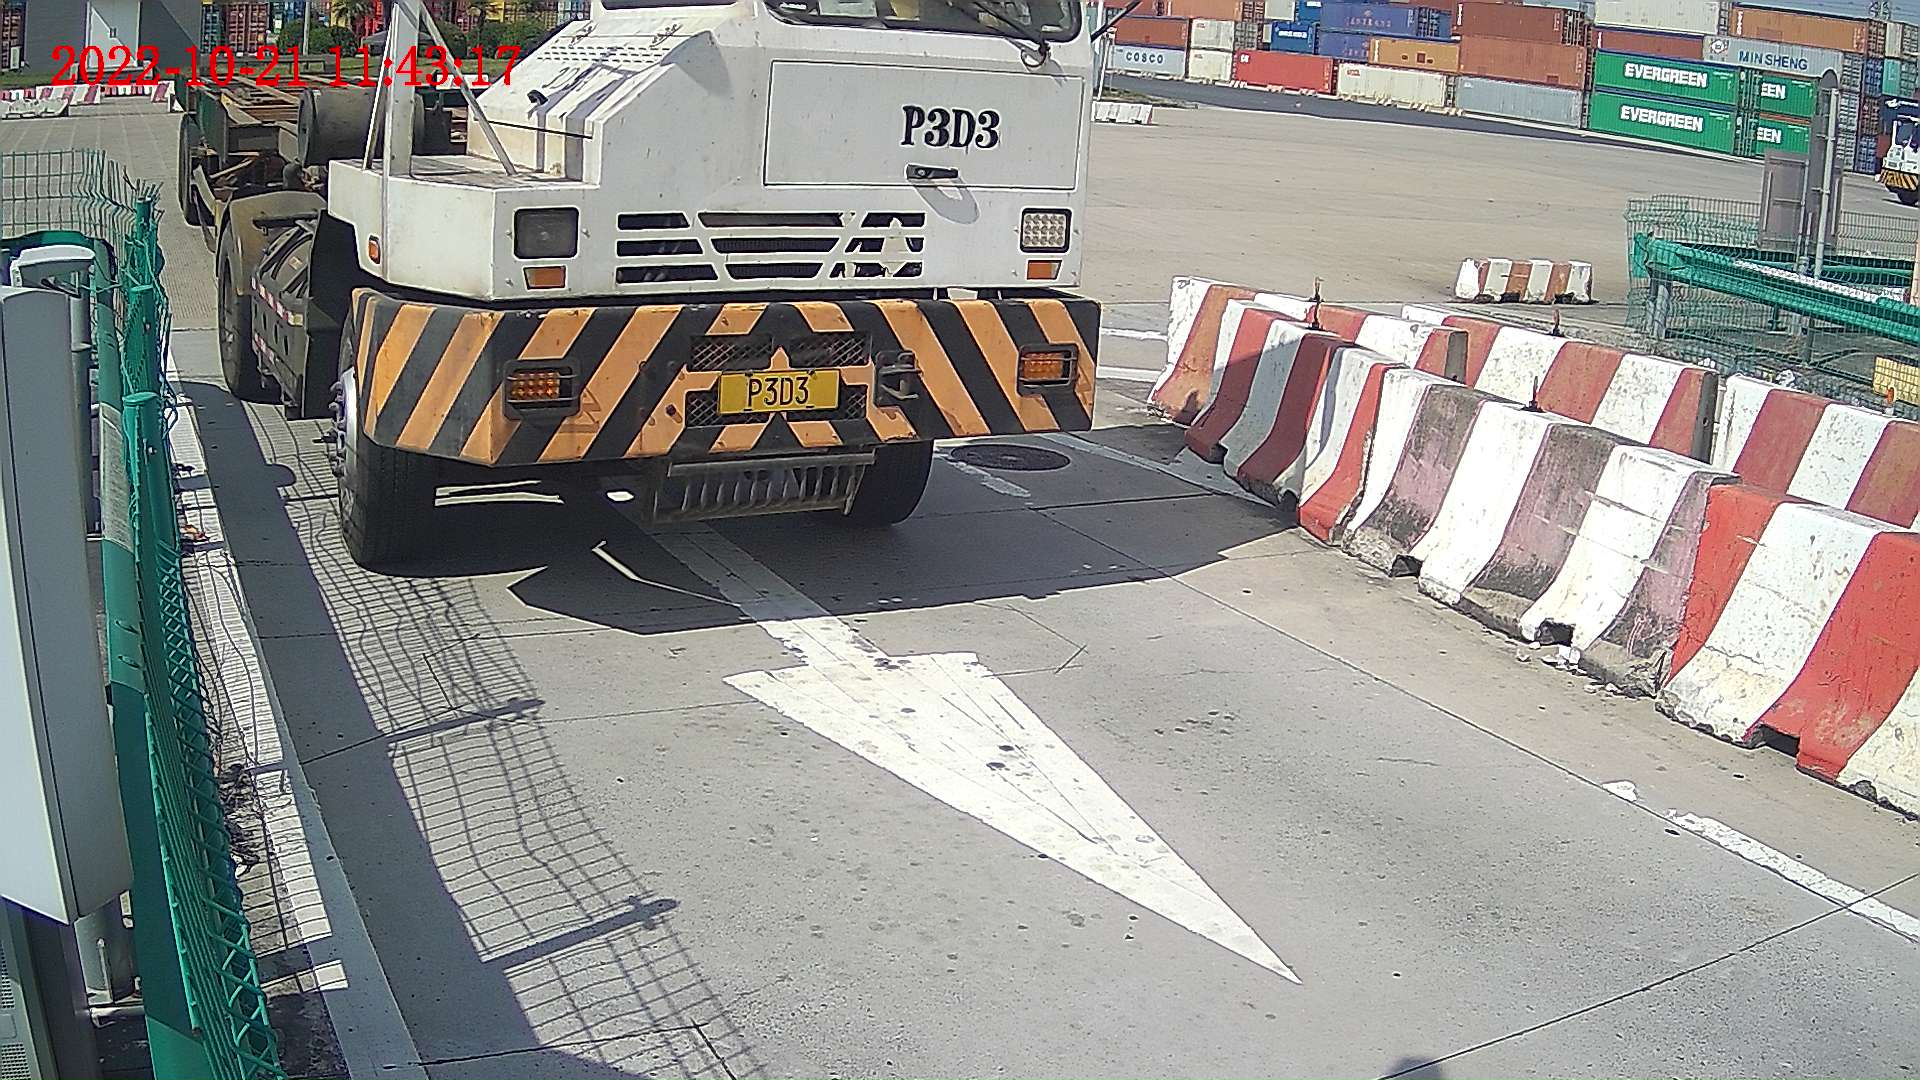head: (318, 1, 1099, 568)
plate: (725, 373, 844, 414)
